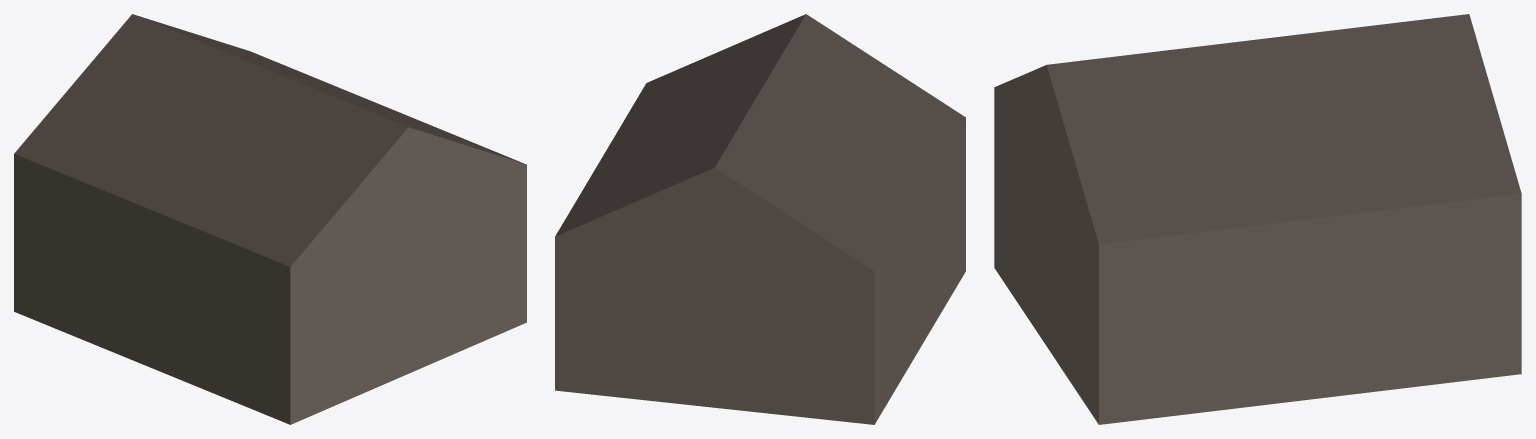
3 renders of one model, left to right at view 1: azimuth 30°, elevation 25°; view 2: azimuth 150°, elevation 25°; view 3: azimuth 270°, elevation 25°, orthographic. The views are drawn at different scales.
Parts seen in each view (by area): view 1: HP-w682223779; view 2: HP-w682223779; view 3: HP-w682223779.
Part boxes in pixels (<box>): HP-w682223779: <box>14,14,526,424</box>; HP-w682223779: <box>555,14,965,424</box>; HP-w682223779: <box>994,14,1521,424</box>.
Size of the model in its own units: 22.27 by 14.05 by 23.85.
